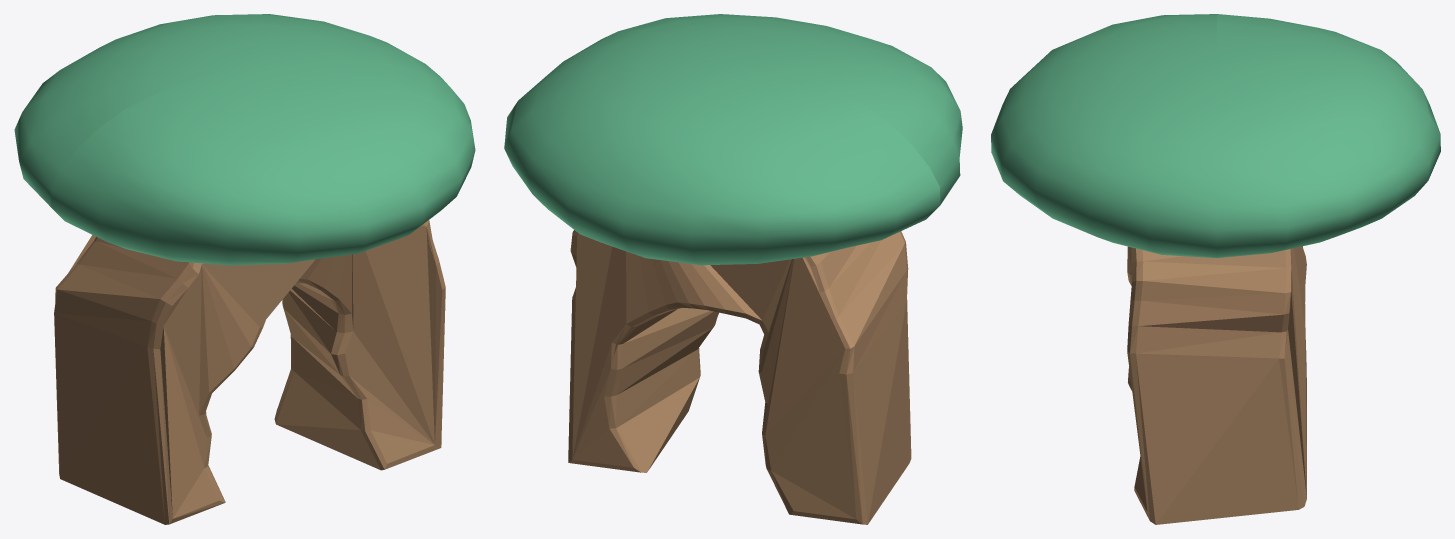
The model's file is hollow_banyan_shelter_tropical_island_and_palm_trees_6856.glb.
3 renders of one model, left to right at view 1: azimuth 30°, elevation 25°; view 2: azimuth 150°, elevation 25°; view 3: azimuth 270°, elevation 25°, orthographic. The views are drawn at different scales.
Visible parts, largest first — view 1: hollow-banyan; view 2: hollow-banyan; view 3: hollow-banyan.
Boxes of the visible parts, x1=… form: hollow-banyan: x1=14, y1=14, x2=475, y2=524; hollow-banyan: x1=504, y1=14, x2=962, y2=524; hollow-banyan: x1=991, y1=14, x2=1440, y2=524.
Bounding box in the file's own units: 4.4 × 4.21 × 4.4.
